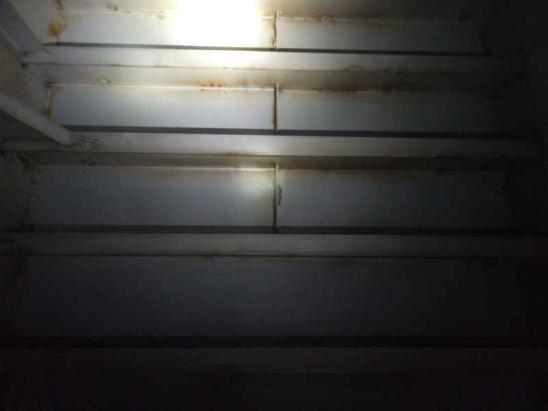corrosion: (118, 159, 298, 186), (258, 12, 443, 33), (202, 82, 291, 96), (29, 69, 68, 99), (41, 0, 68, 32), (307, 80, 363, 94)
